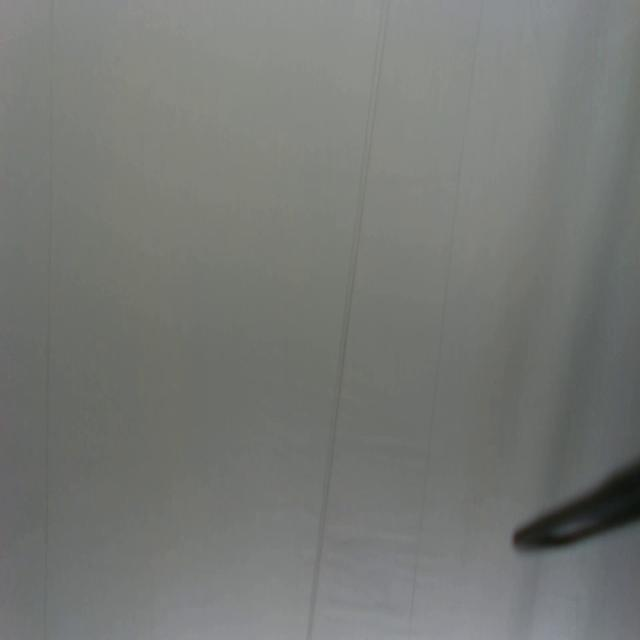crease: (306, 0, 388, 638), (407, 0, 485, 639), (40, 0, 55, 636)
